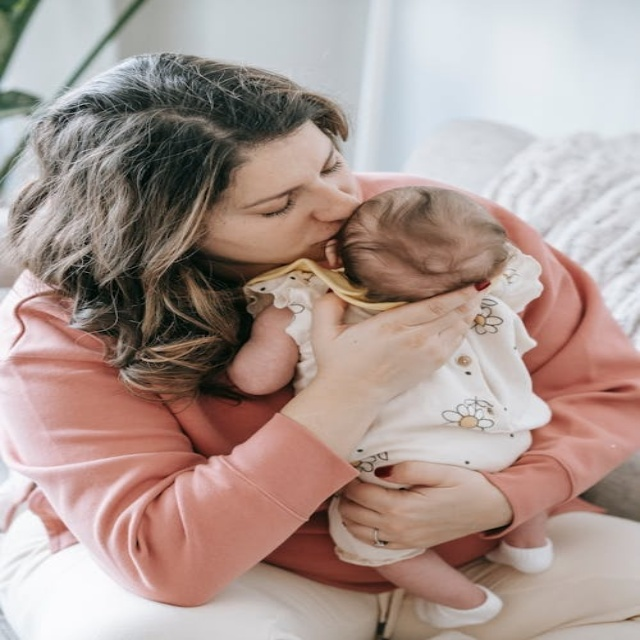Sin_gafas: (225, 139, 349, 219)
Sin_guantes: (286, 280, 490, 416), (335, 461, 510, 551)
